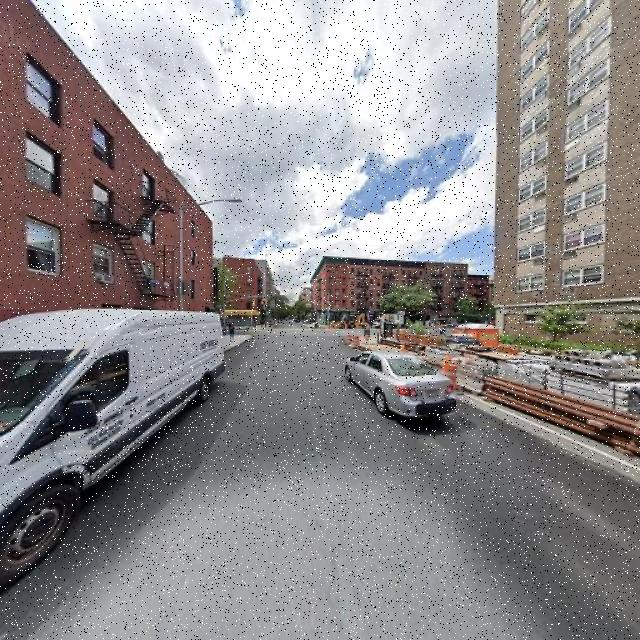Building: (1, 1, 210, 383), (498, 1, 640, 372)
